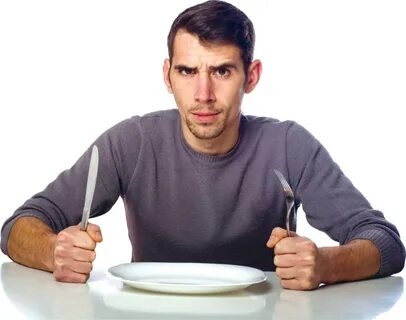awake: (109, 1, 316, 269)
